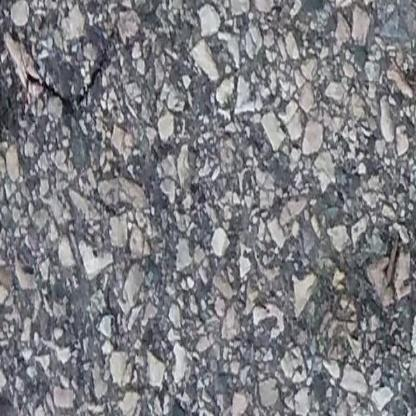Cracks: (0, 32, 118, 145)
